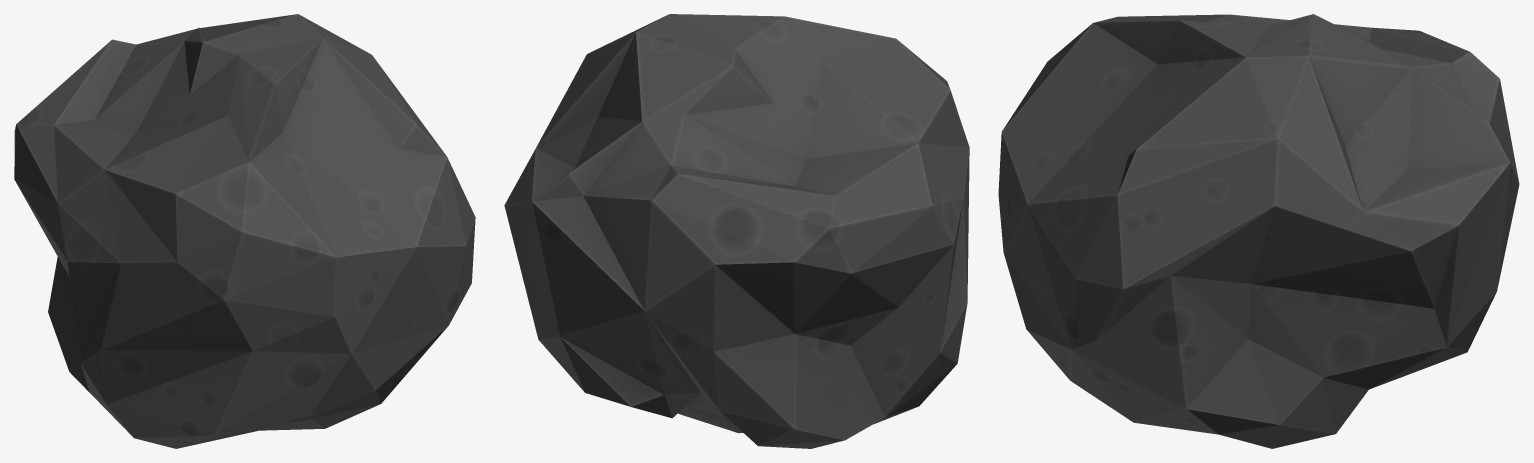
Rendered from asteroid13.glb.
The picture shows the model from 3 angles, left to right: view 1: azimuth 30°, elevation 25°; view 2: azimuth 150°, elevation 25°; view 3: azimuth 270°, elevation 25°; orthographic projection. The views are drawn at different scales.
Visible parts, largest first — view 1: Asteroids_Mesh.013; view 2: Asteroids_Mesh.013; view 3: Asteroids_Mesh.013.
Boxes of the visible parts, bbox=[...] form: Asteroids_Mesh.013: bbox=[14, 14, 475, 448]; Asteroids_Mesh.013: bbox=[504, 14, 969, 448]; Asteroids_Mesh.013: bbox=[998, 14, 1519, 448].
Bounding box in the file's own units: 5.77 × 5.54 × 6.56.
1 material, 1 textured.
